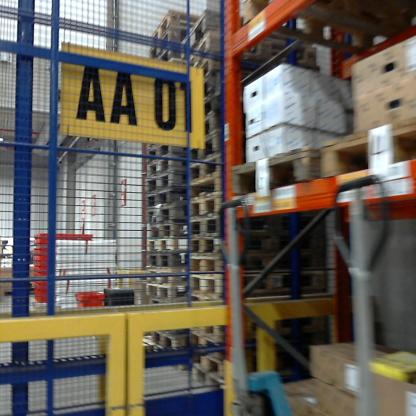pallet: (245, 3, 415, 59), (318, 118, 415, 187), (231, 145, 320, 201), (176, 6, 269, 56), (183, 249, 318, 279), (183, 235, 336, 261), (186, 212, 345, 236), (186, 292, 285, 322), (186, 273, 326, 292), (142, 22, 203, 60), (104, 329, 167, 364), (185, 34, 246, 68), (140, 140, 202, 173), (188, 329, 240, 365), (185, 155, 243, 183), (187, 320, 249, 345), (142, 155, 209, 178), (157, 345, 203, 378), (150, 10, 189, 48), (177, 131, 226, 159), (190, 171, 241, 197), (149, 324, 190, 355), (140, 283, 203, 303), (183, 194, 233, 219), (146, 48, 199, 71), (142, 174, 209, 192), (138, 269, 201, 288), (147, 251, 213, 269), (191, 348, 236, 372), (140, 237, 212, 252), (142, 204, 193, 225), (187, 368, 224, 396), (142, 195, 208, 207), (201, 52, 232, 76), (2, 284, 38, 304), (196, 74, 226, 97), (204, 106, 227, 134), (140, 225, 193, 237), (197, 96, 221, 115)
pallet_truck: (210, 193, 316, 415), (321, 161, 405, 414)
small_load_carrier: (61, 286, 106, 314)
